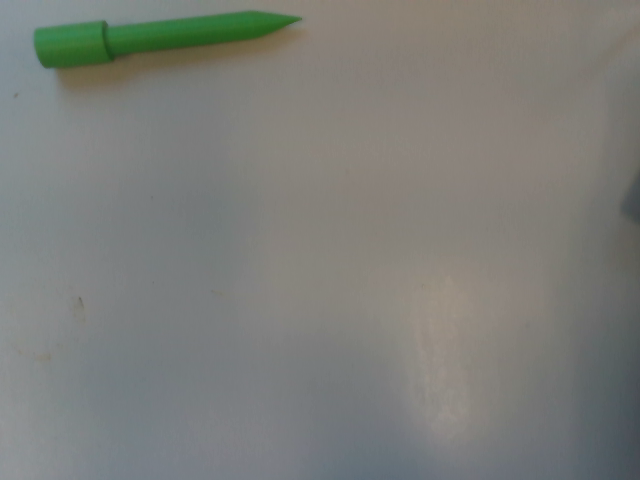Probe: (26, 6, 310, 73)
